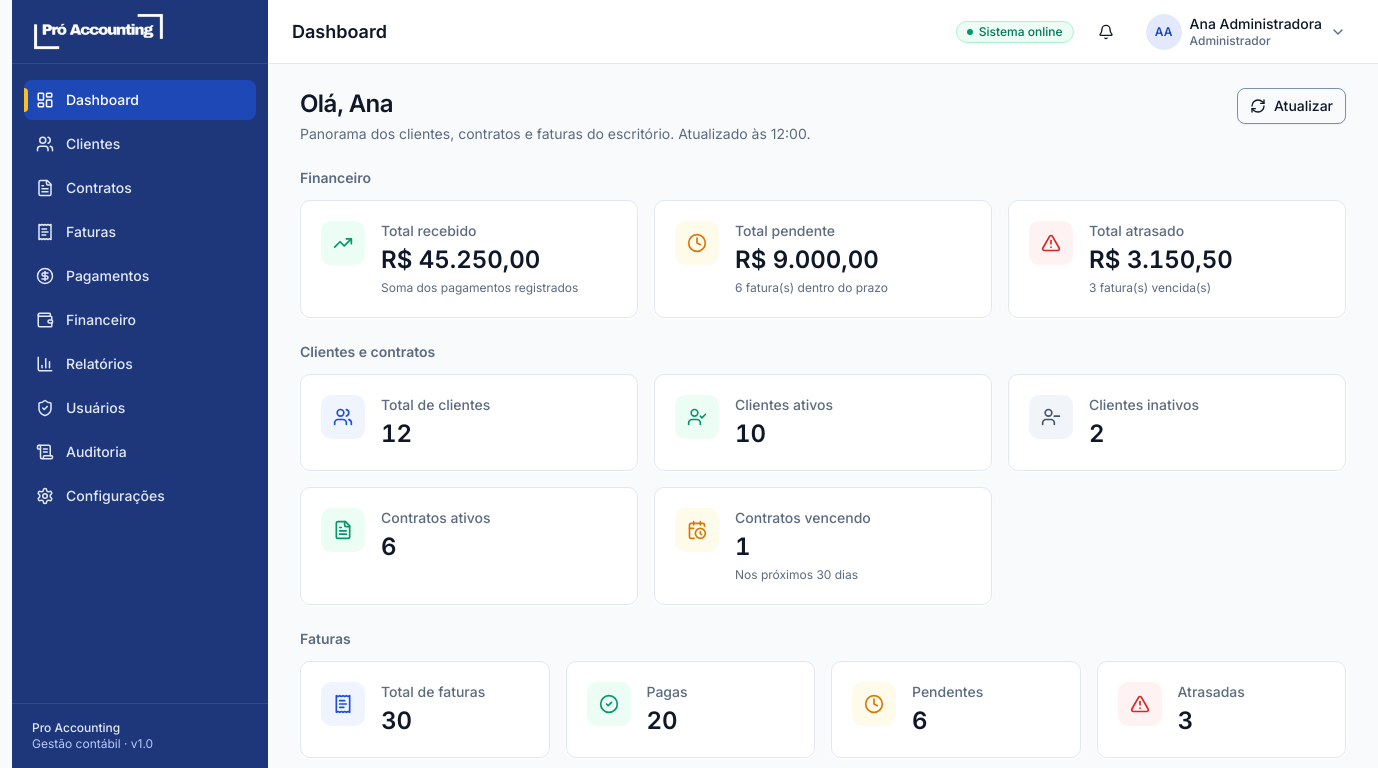
Test: navegação por perfil › "Sair" limpa a sessão e volta ao login
Click the button "AA Ana Administradora Administrador".
click(1246, 32)  # box [1138,8,1354,56]
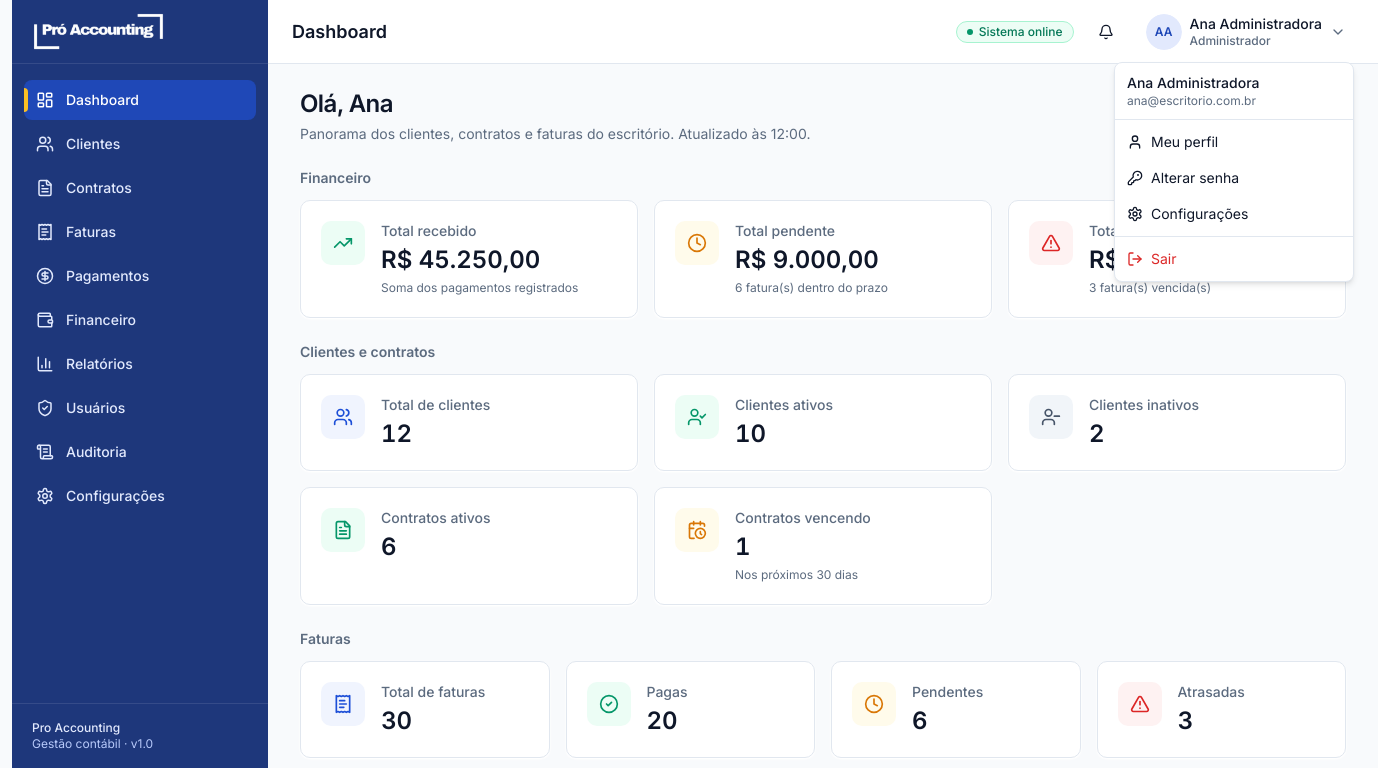
Click the menu item "Sair".
click(1152, 258)  # box [1127,250,1176,267]
(page scrolled)
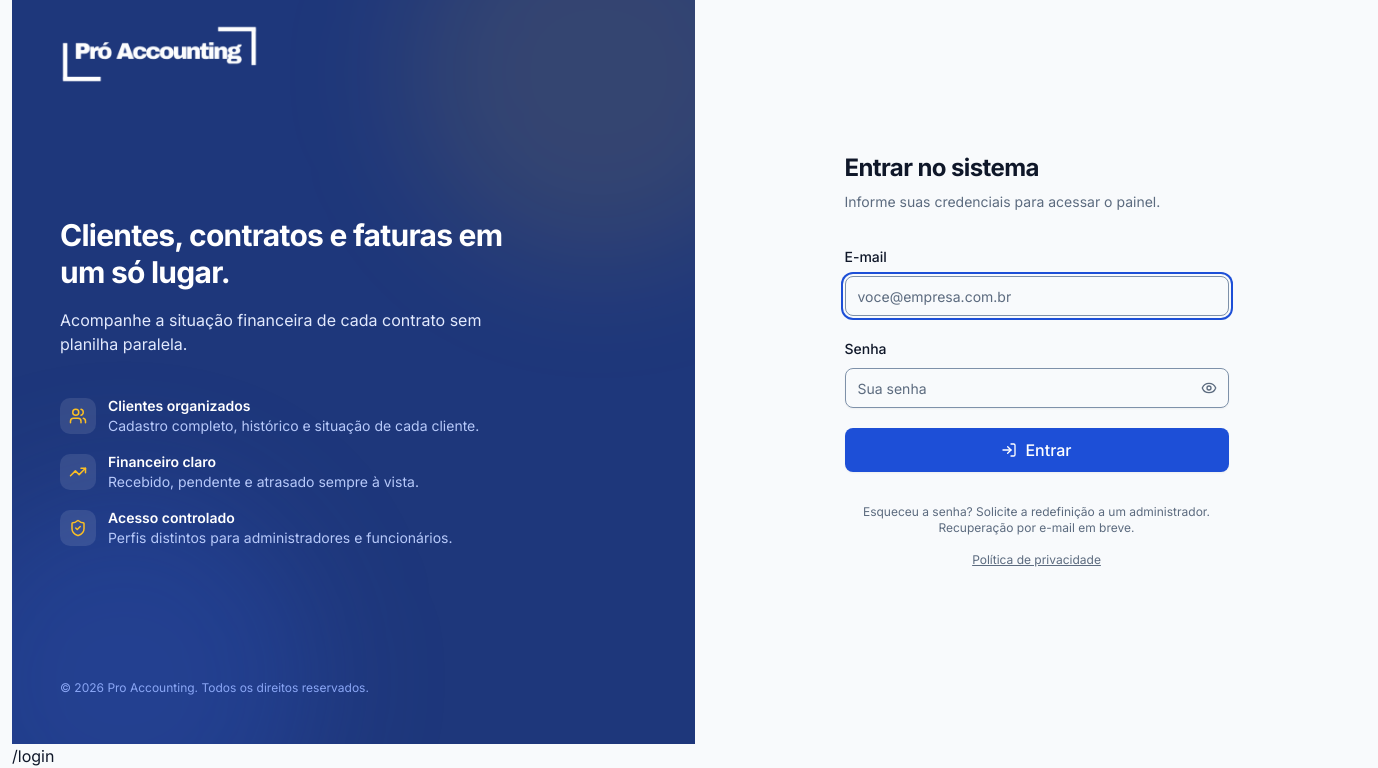
Expected: the text with test id "location" reads "/login", [12,746,54,766]
